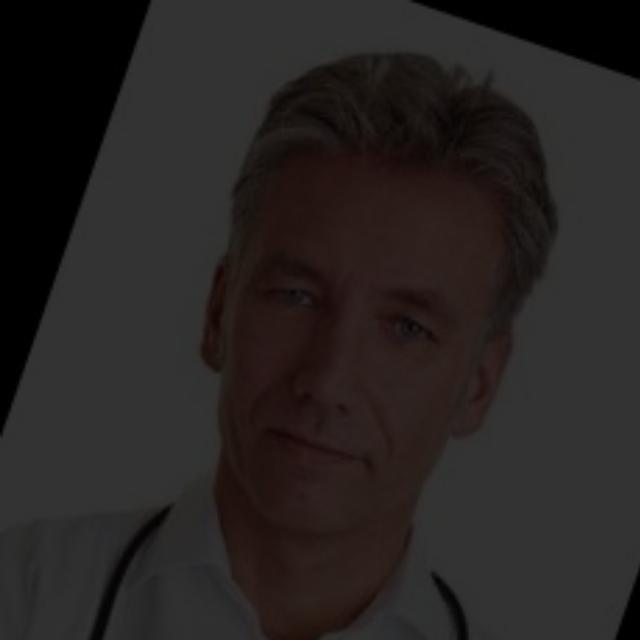Natural: (167, 60, 475, 553)
